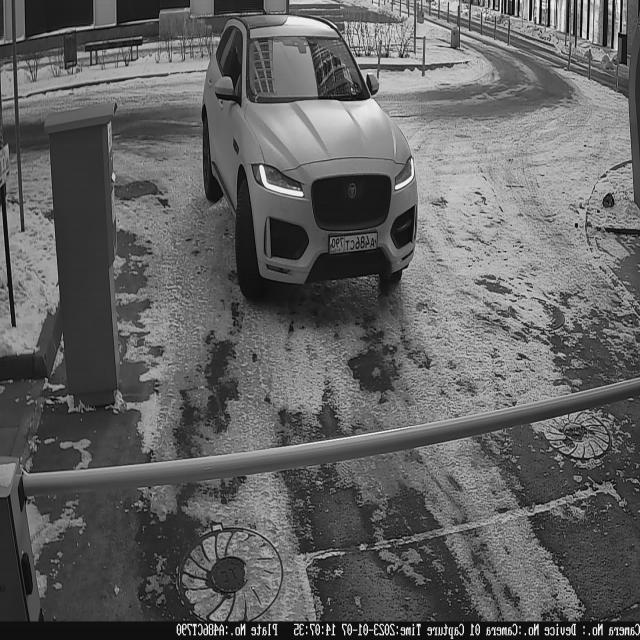car-plate-numbers: (327, 227, 381, 263)
